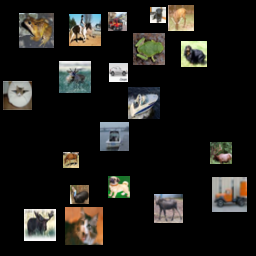automobile: (109, 63, 128, 82)
bird: (70, 185, 89, 204)
cat: (65, 207, 103, 245), (3, 81, 32, 110)
deer: (59, 61, 91, 93), (24, 209, 56, 241), (154, 194, 183, 223), (168, 5, 194, 31), (210, 142, 232, 164)
dog: (181, 41, 207, 67), (108, 176, 130, 198), (150, 7, 166, 23)
frog: (19, 13, 54, 48), (133, 33, 165, 65)
ship: (128, 87, 160, 119), (100, 122, 129, 151)
